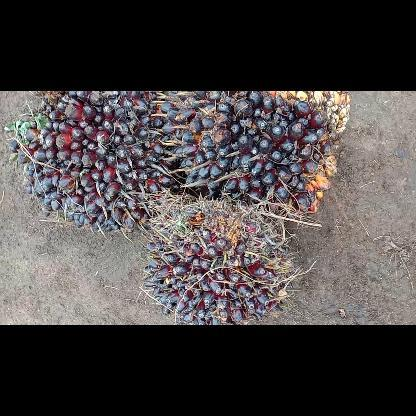TBS mentah: (154, 90, 354, 220), (7, 90, 182, 235), (139, 196, 299, 324)
